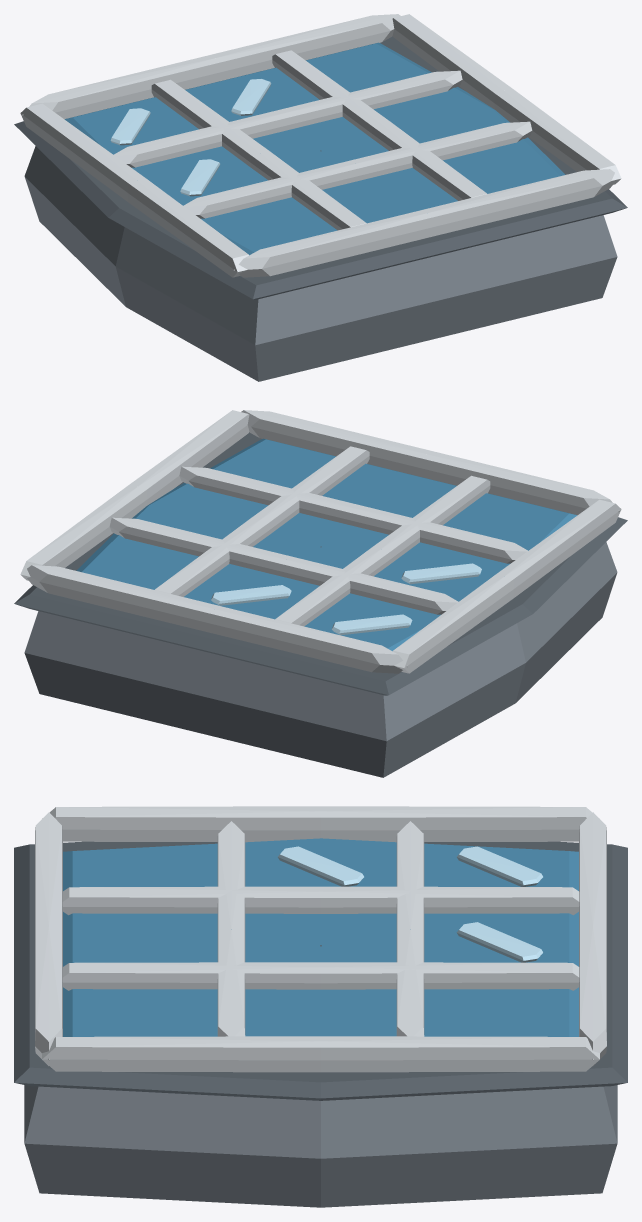
File: r-skylight.glb
The picture shows the model from 3 angles, top to bottom: view 1: azimuth 30°, elevation 25°; view 2: azimuth 150°, elevation 25°; view 3: azimuth 270°, elevation 25°; orthographic projection. The views are drawn at different scales.
Parts seen in each view (by area): view 1: p; view 2: p; view 3: p.
Part boxes in pixels (x1,y1,x2,y2): p: [14, 14, 627, 381]; p: [14, 410, 627, 777]; p: [14, 806, 627, 1207].
Size of the model in its own units: 1.76 by 0.5 by 1.72.
